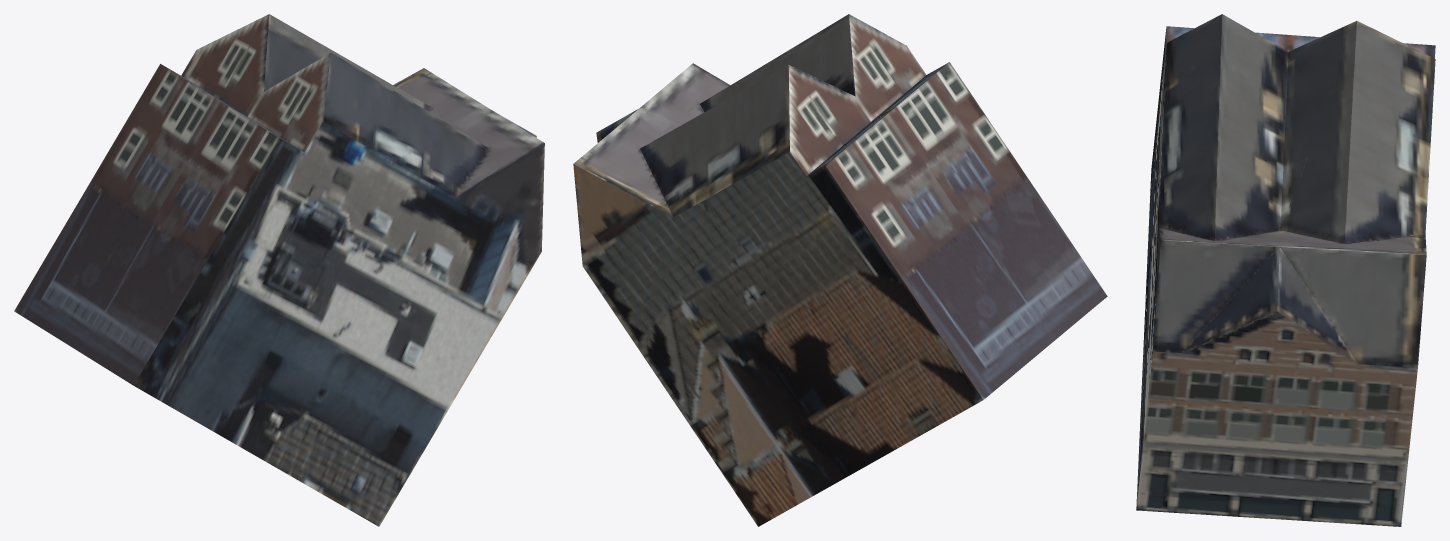
3 views of the same model, side by side, from view 1: azimuth 30°, elevation 25°; view 2: azimuth 150°, elevation 25°; view 3: azimuth 270°, elevation 25° (orthographic). The views are drawn at different scales.
Parts seen in each view (by area): view 1: BAG_0599100000767277 (×5); view 2: BAG_0599100000767277 (×5); view 3: BAG_0599100000767277 (×5).
Part boxes in pixels (x1,y1,x2,y2): BAG_0599100000767277 (×5): (14, 14, 544, 526); BAG_0599100000767277 (×5): (573, 14, 1107, 526); BAG_0599100000767277 (×5): (1136, 14, 1435, 526).
Size of the model in its own units: 24.52 by 23.53 by 12.58.
5 materials, 5 textured.
